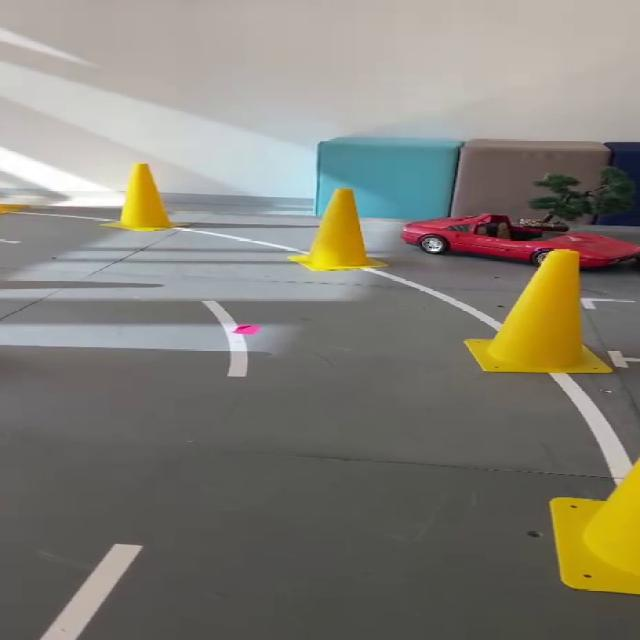Cones-yellow: (465, 249, 612, 375), (552, 459, 639, 595), (290, 188, 382, 271), (112, 164, 174, 231)
